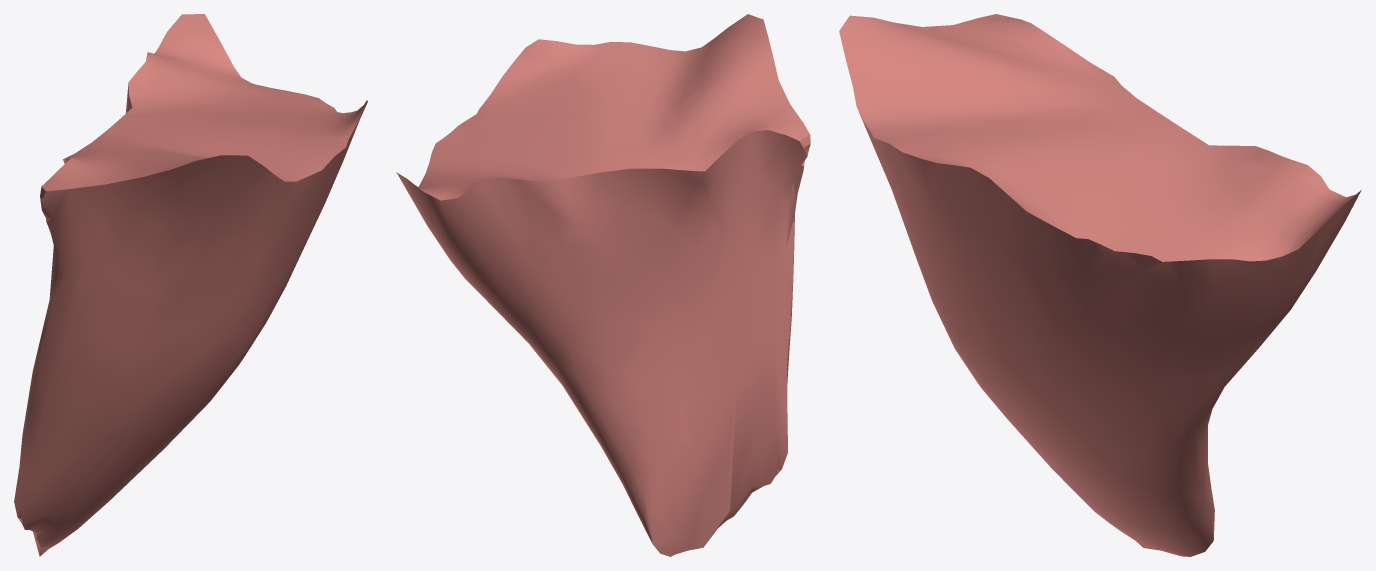
Rendered from fma299441_mm1782m.glb.
3 views of the same model, side by side, from view 1: azimuth 30°, elevation 25°; view 2: azimuth 150°, elevation 25°; view 3: azimuth 270°, elevation 25° (orthographic). The views are drawn at different scales.
Parts seen in each view (by area): view 1: FMA299441_MM1782M; view 2: FMA299441_MM1782M; view 3: FMA299441_MM1782M.
Part boxes in pixels (<box>): FMA299441_MM1782M: <box>14,14,367,556</box>; FMA299441_MM1782M: <box>396,14,810,556</box>; FMA299441_MM1782M: <box>839,14,1361,556</box>.
Size of the model in its own units: 0.0205 by 0.027 by 0.0226.
